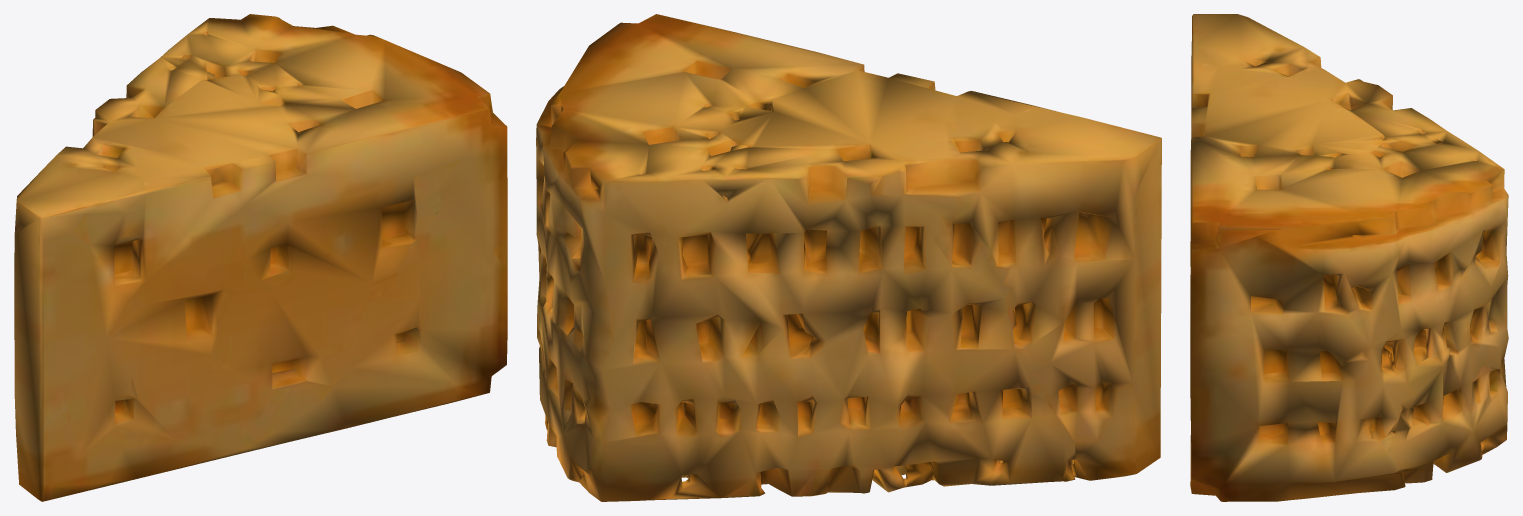
Rendered from food-cheese-slice.glb.
3 views of the same model, side by side, from view 1: azimuth 30°, elevation 25°; view 2: azimuth 150°, elevation 25°; view 3: azimuth 270°, elevation 25° (orthographic). The views are drawn at different scales.
Parts seen in each view (by area): view 1: food-cheese-slice; view 2: food-cheese-slice; view 3: food-cheese-slice.
Part boxes in pixels (left/top/right/bottom): food-cheese-slice: left=14, top=14, right=507, bottom=501; food-cheese-slice: left=536, top=14, right=1161, bottom=501; food-cheese-slice: left=1190, top=14, right=1508, bottom=501.
Bounding box in the file's own units: 0.68 × 0.399 × 0.4201.
Materials: 1 (1 with a texture image).
